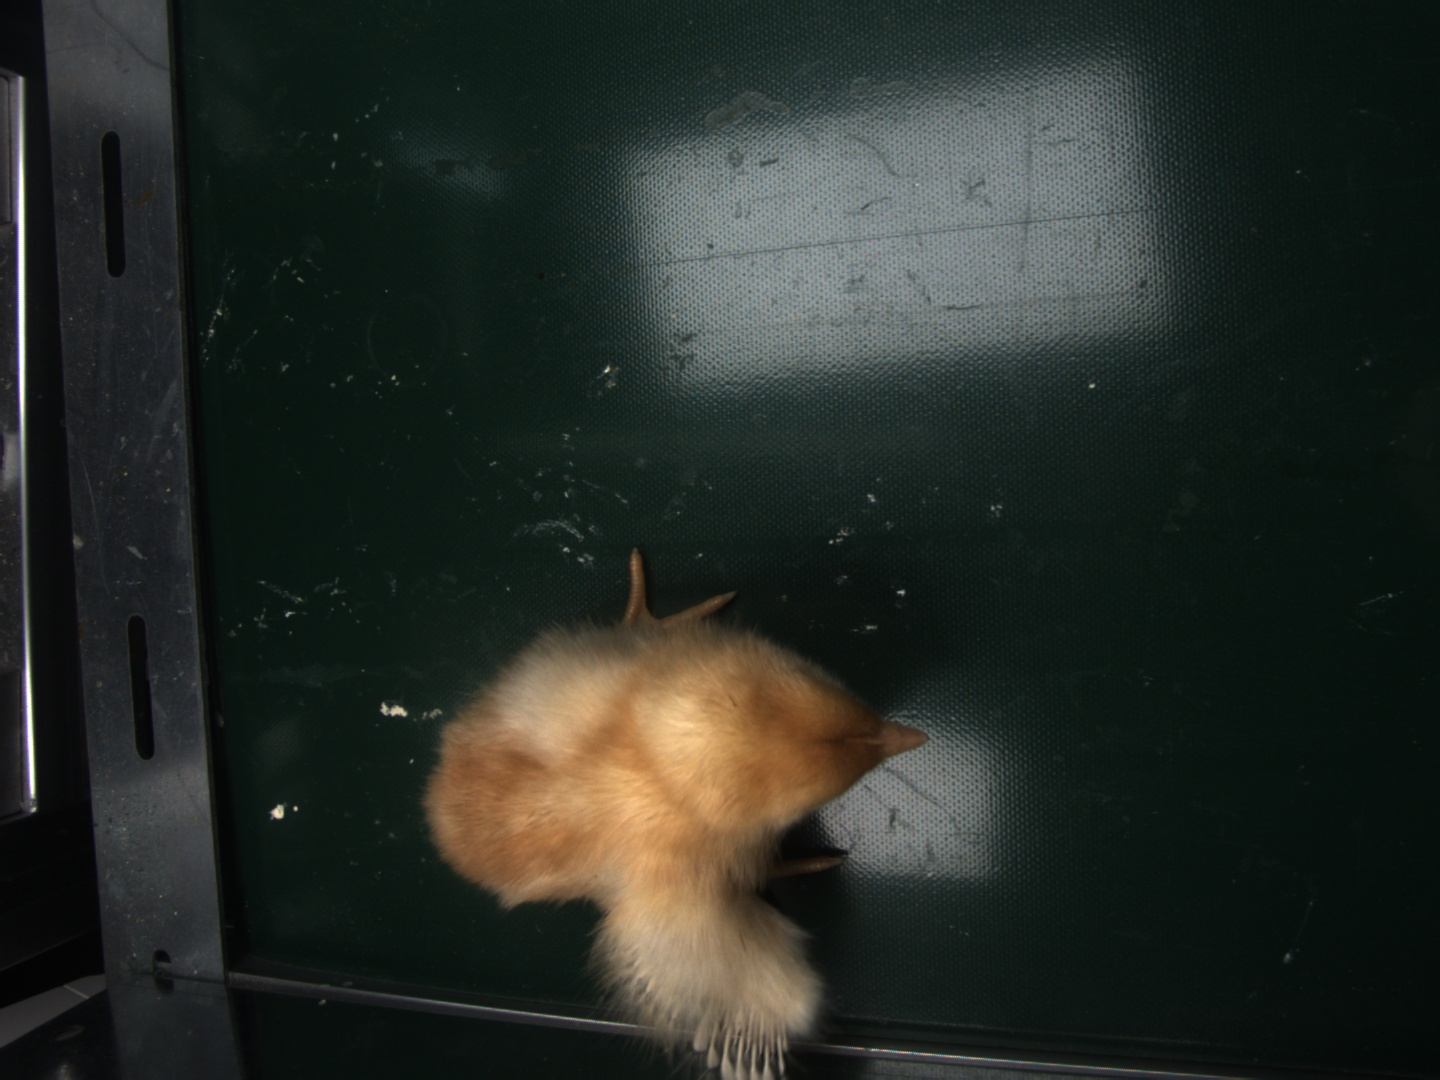female: (698, 1006, 786, 1080)
